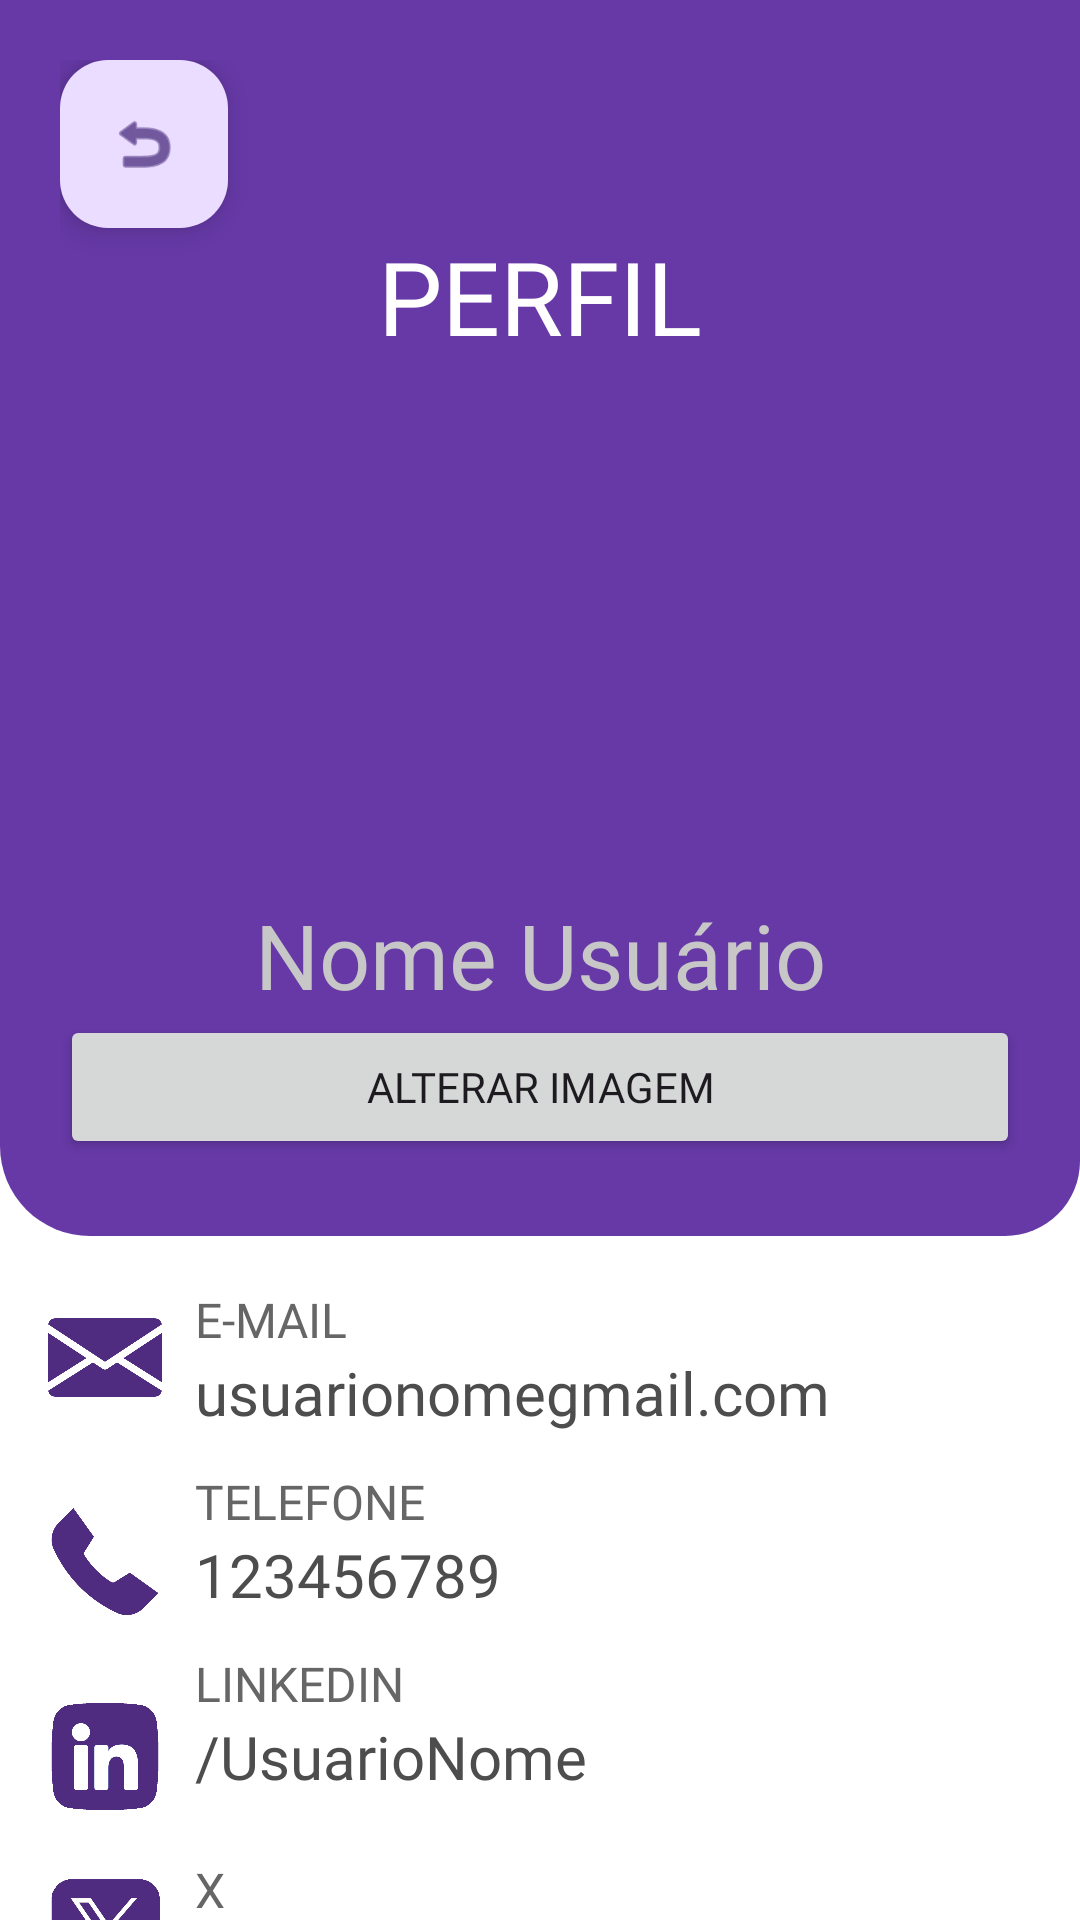

Icons on this 1080 × 1920 Android screen, each with the point to tap as (x=x, y=y):
phoneicon: (x=104, y=1561)
revert: (x=144, y=144)
